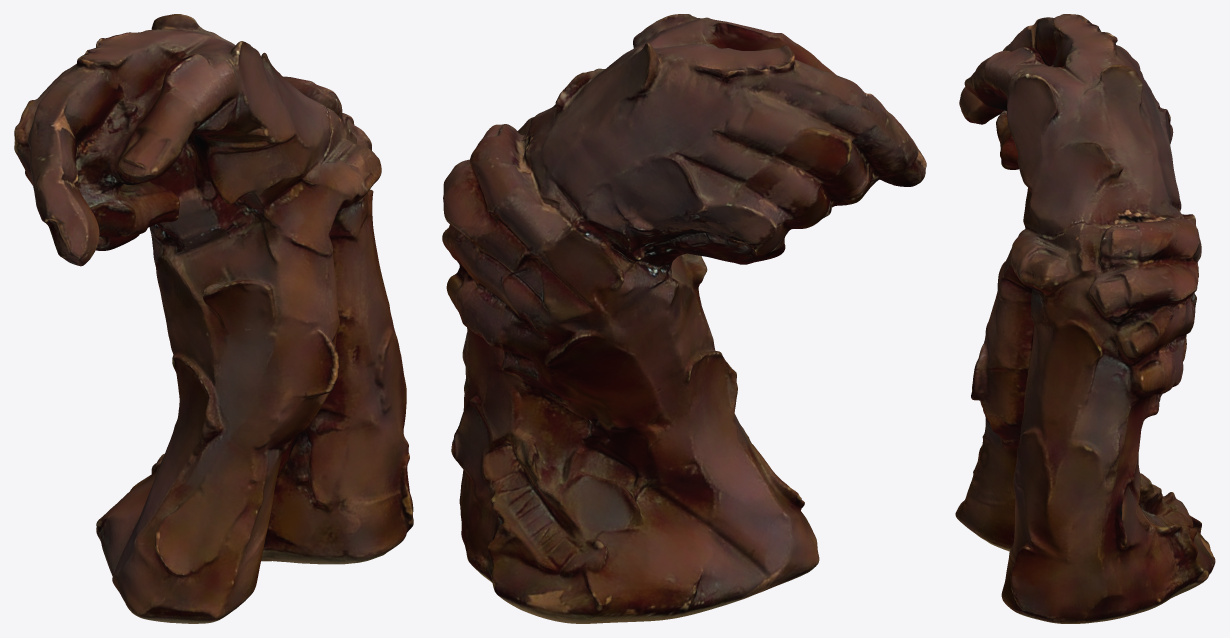
Rendered from modelo.glb.
3 views of the same model, side by side, from view 1: azimuth 30°, elevation 25°; view 2: azimuth 150°, elevation 25°; view 3: azimuth 270°, elevation 25° (orthographic). The views are drawn at different scales.
Visible parts, largest first — view 1: CAL0631PosProcess; view 2: CAL0631PosProcess; view 3: CAL0631PosProcess.
Boxes of the visible parts, x1,y1,x2,y2 form: CAL0631PosProcess: (14,14,413,623); CAL0631PosProcess: (442,14,926,623); CAL0631PosProcess: (955,14,1215,623).
Bounding box in the file's own units: 203 × 275 × 129.
1 material, 1 textured.
